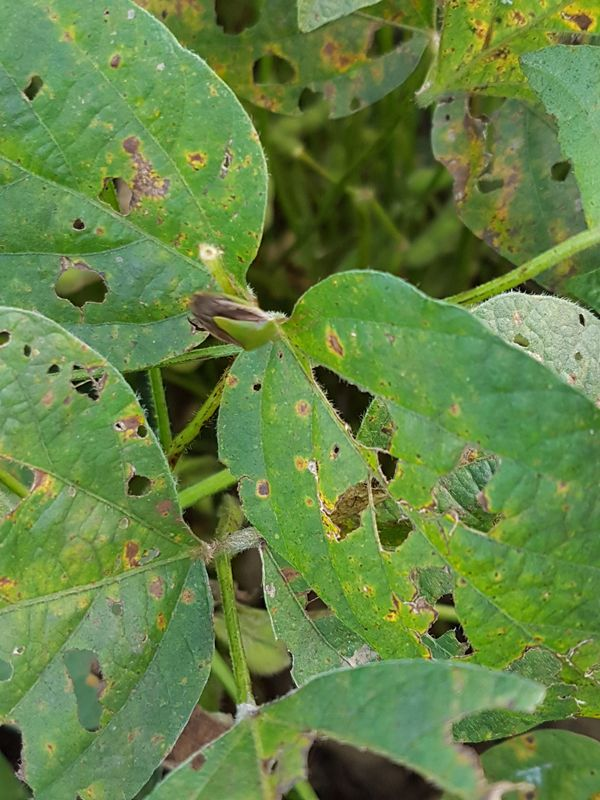Edessa_meditabunda: (166, 275, 297, 376)
